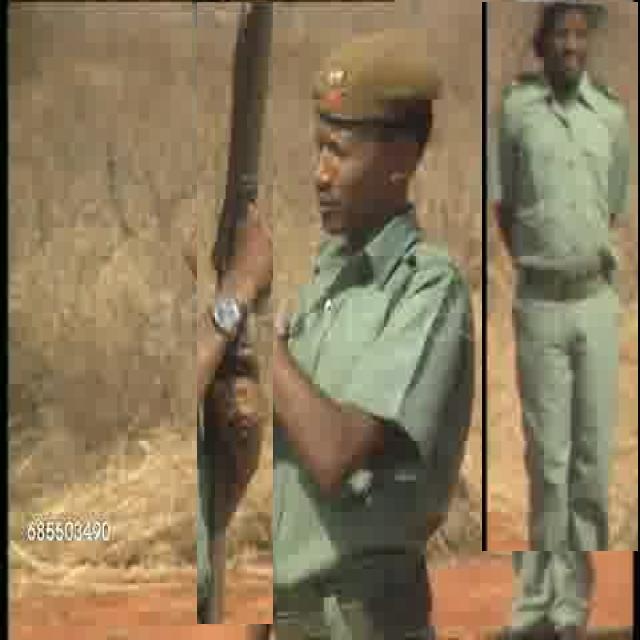poacher: (286, 1, 466, 622), (482, 2, 638, 551)
weapon: (198, 2, 274, 624)
